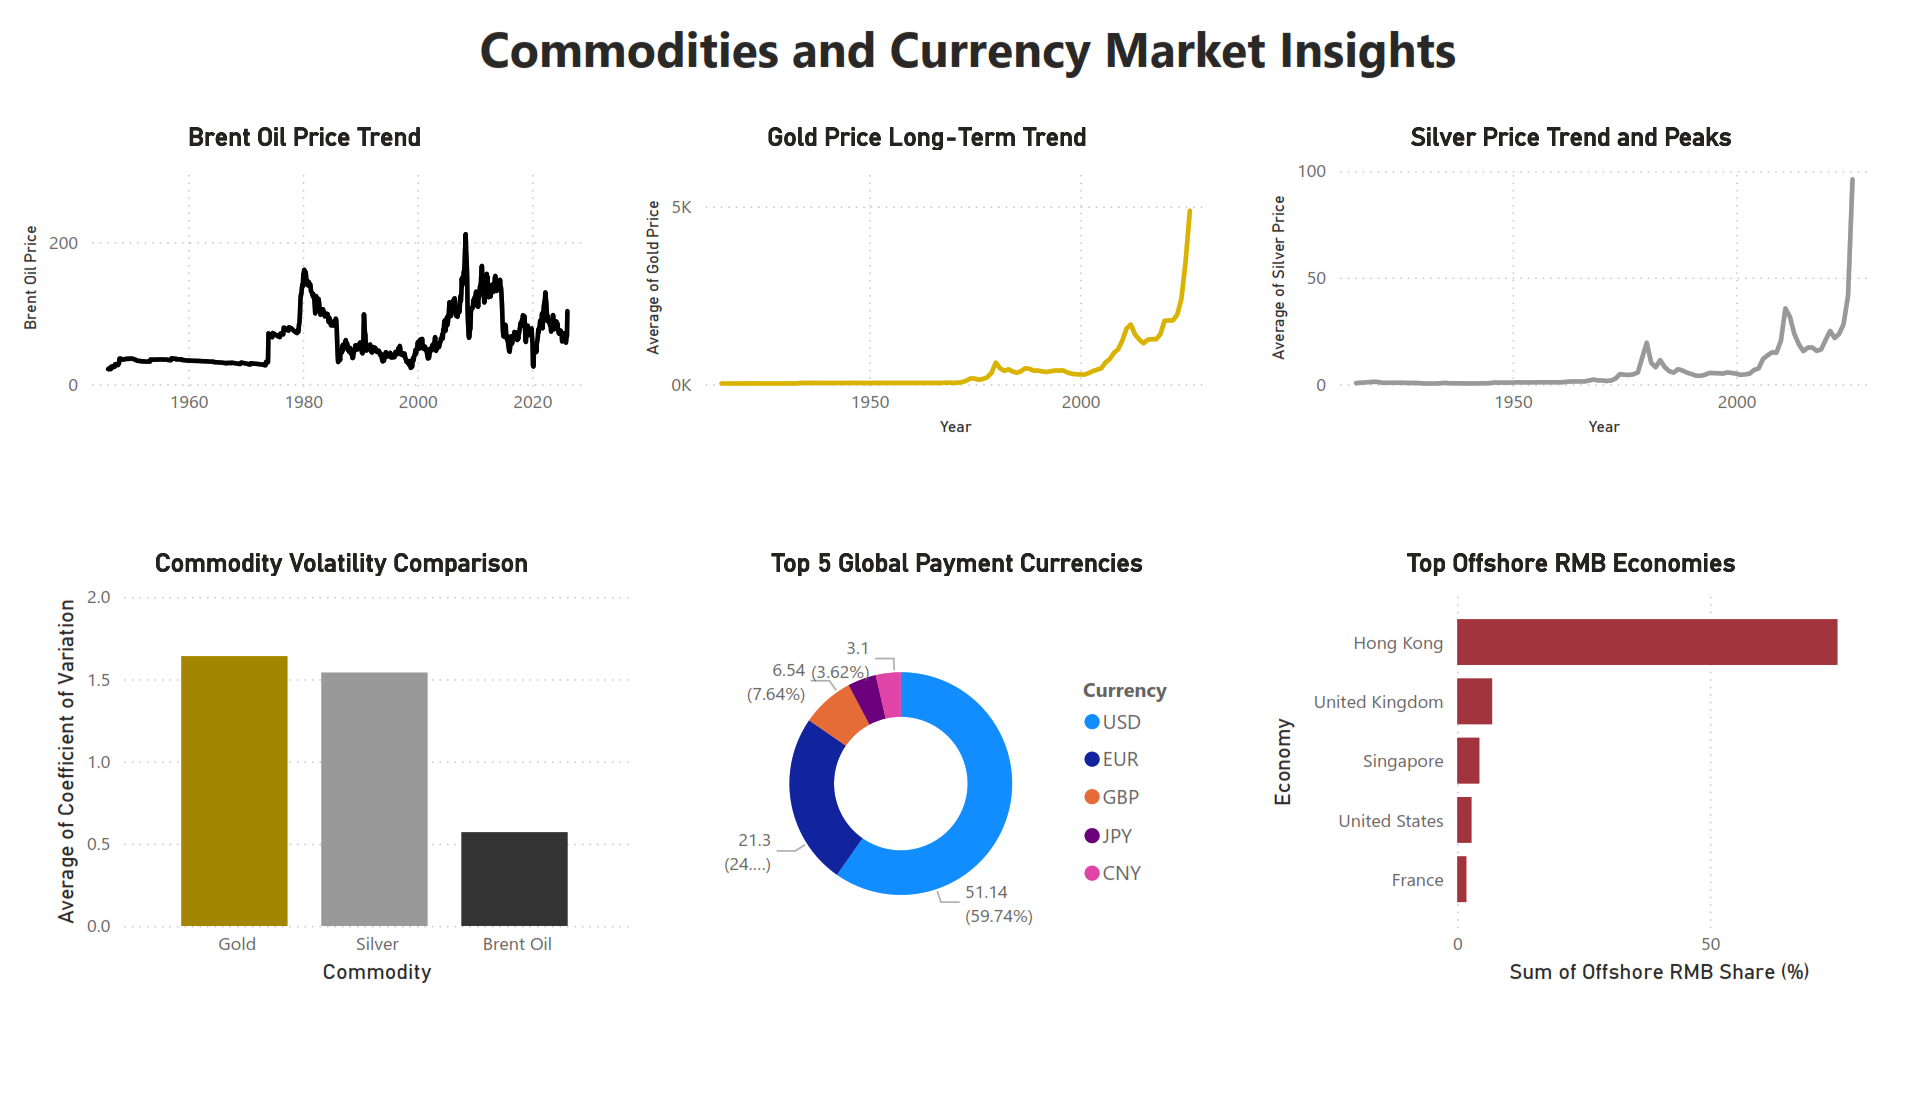

The page's visual inventory and layout, read from the dashboard file:
{"tool":"powerbi","page":{"name":"Page 1","canvas":[1280,720],"ordinal":0},"visuals":[{"type":"textbox","box":[9.9,0,1270.7,74.9],"z":0},{"type":"lineChart","title":"Brent Oil Price Trend","fields":{"Y":["Avg(Q13_Brent Oil Line Chart.Brent Oil Price)"],"Category":["Q13_Brent Oil Line Chart.Fixed Date Format.Variation.Date Hierarchy.Year","Q13_Brent Oil Line Chart.Fixed Date Format.Variation.Date Hierarchy.Quarter","Q13_Brent Oil Line Chart.Fixed Date Format.Variation.Date Hierarchy.Month","Q13_Brent Oil Line Chart.Fixed Date Format.Variation.Date Hierarchy.Day"]},"box":[9.9,75.5,386.2,214.2],"z":1000},{"type":"lineChart","title":"Gold Price Long-Term Trend","fields":{"Category":["Q14_Gold Line Chart.Fixed Date Format.Variation.Date Hierarchy.Year","Q14_Gold Line Chart.Fixed Date Format.Variation.Date Hierarchy.Quarter","Q14_Gold Line Chart.Fixed Date Format.Variation.Date Hierarchy.Month","Q14_Gold Line Chart.Fixed Date Format.Variation.Date Hierarchy.Day"],"Y":["Avg(Q14_Gold Line Chart.Gold Price)"]},"box":[424.6,75.5,386.2,214.2],"z":2000},{"type":"lineChart","title":"Silver Price Trend and Peaks","fields":{"Category":["Q15_Silver Line Chart.Fixed Date Format.Variation.Date Hierarchy.Year","Q15_Silver Line Chart.Fixed Date Format.Variation.Date Hierarchy.Quarter","Q15_Silver Line Chart.Fixed Date Format.Variation.Date Hierarchy.Month","Q15_Silver Line Chart.Fixed Date Format.Variation.Date Hierarchy.Day"],"Y":["Avg(Q15_Silver Line Chart.Silver Price)"]},"box":[841.8,75.5,411,214.2],"z":3000},{"type":"columnChart","title":"Commodity Volatility Comparison","fields":{"Category":["Q27_Volatility.Commodity"],"Y":["Avg(Q27_Volatility.Coefficient of Variation)"]},"box":[30.9,360.3,393.7,295.9],"z":4000},{"type":"donutChart","title":"Top 5 Global Payment Currencies","fields":{"Category":["Q19_Top_Currencies.Currency"],"Y":["Sum(Q19_Top_Currencies.Global Payment Share (%))"]},"box":[474.1,360.3,328.1,295.9],"z":5000},{"type":"barChart","title":"Top Offshore RMB Economies","fields":{"Category":["Q24_Top10_Offshore_RMB.Economy"],"Y":["Sum(Q24_Top10_Offshore_RMB.Offshore RMB Share (%))"]},"box":[841.8,360.3,411,295.9],"z":6000}]}

Visuals, with their boxes in screenshot pixels (x1, y1, x2, y2), scaled from the page's 1280x720 canvas onto the 1920x1095 screenshot:
textbox: bbox(15, 0, 1919, 114)
"Brent Oil Price Trend" lineChart: bbox(15, 115, 594, 441)
"Gold Price Long-Term Trend" lineChart: bbox(637, 115, 1216, 441)
"Silver Price Trend and Peaks" lineChart: bbox(1263, 115, 1879, 441)
"Commodity Volatility Comparison" columnChart: bbox(46, 548, 637, 998)
"Top 5 Global Payment Currencies" donutChart: bbox(711, 548, 1203, 998)
"Top Offshore RMB Economies" barChart: bbox(1263, 548, 1879, 998)
